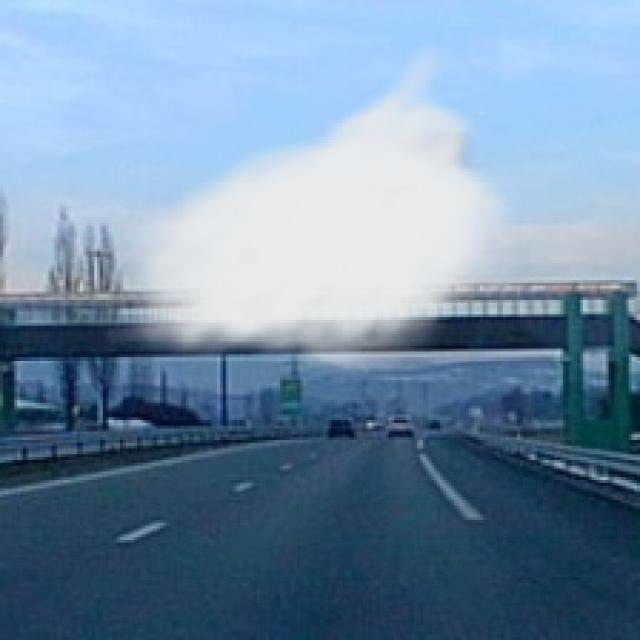Smoke: (103, 34, 526, 377)
